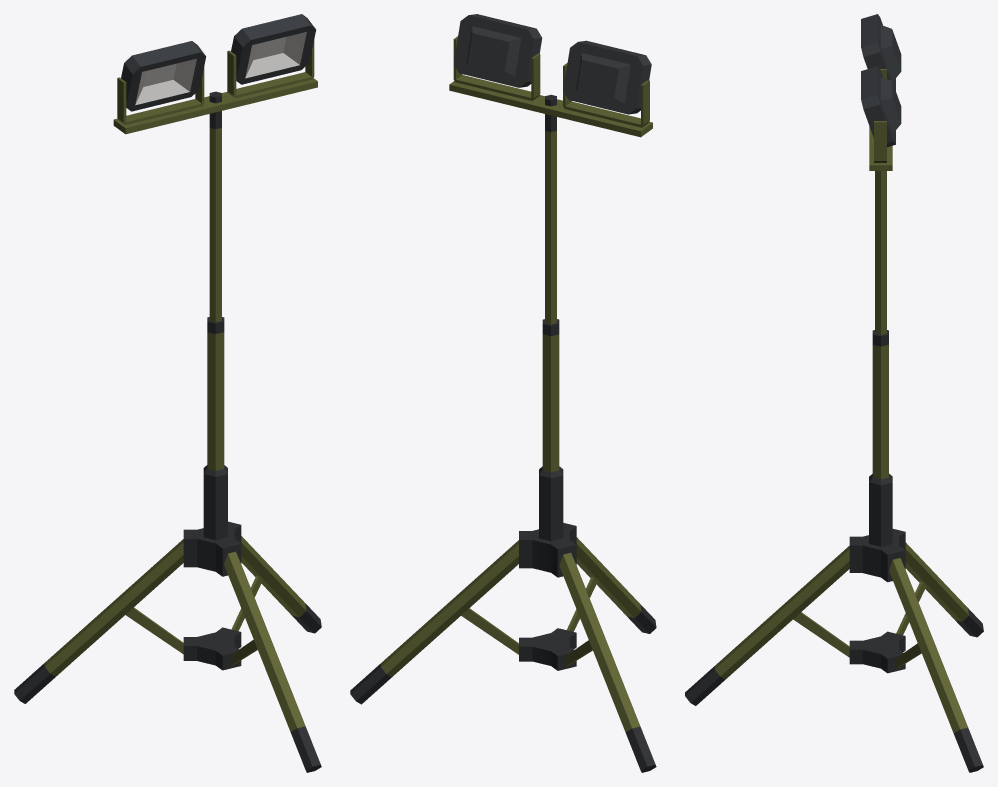
Rendered from SM_Prop_Light_Portable_01.fbx.
3 views of the same model, side by side, from view 1: azimuth 30°, elevation 25°; view 2: azimuth 150°, elevation 25°; view 3: azimuth 270°, elevation 25° (orthographic). The views are drawn at different scales.
Parts seen in each view (by area): view 1: SM_Prop_Light_Portable_01, SM_Prop_Light_Portable_Lights_01, SM_Prop_Light_Portable_Pole_01; view 2: SM_Prop_Light_Portable_01, SM_Prop_Light_Portable_Lights_01, SM_Prop_Light_Portable_Pole_01; view 3: SM_Prop_Light_Portable_01, SM_Prop_Light_Portable_Lights_01, SM_Prop_Light_Portable_Pole_01.
Part boxes in pixels (x1,y1,x2,y2): SM_Prop_Light_Portable_01: (14, 317, 321, 772); SM_Prop_Light_Portable_Lights_01: (121, 14, 316, 111); SM_Prop_Light_Portable_Pole_01: (113, 40, 317, 322); SM_Prop_Light_Portable_01: (350, 319, 656, 772); SM_Prop_Light_Portable_Lights_01: (453, 14, 651, 114); SM_Prop_Light_Portable_Pole_01: (449, 36, 652, 324); SM_Prop_Light_Portable_01: (685, 330, 983, 772); SM_Prop_Light_Portable_Lights_01: (861, 14, 901, 147); SM_Prop_Light_Portable_Pole_01: (869, 69, 892, 335).
Size of the model in its own units: 99.79 by 208 by 86.76.
